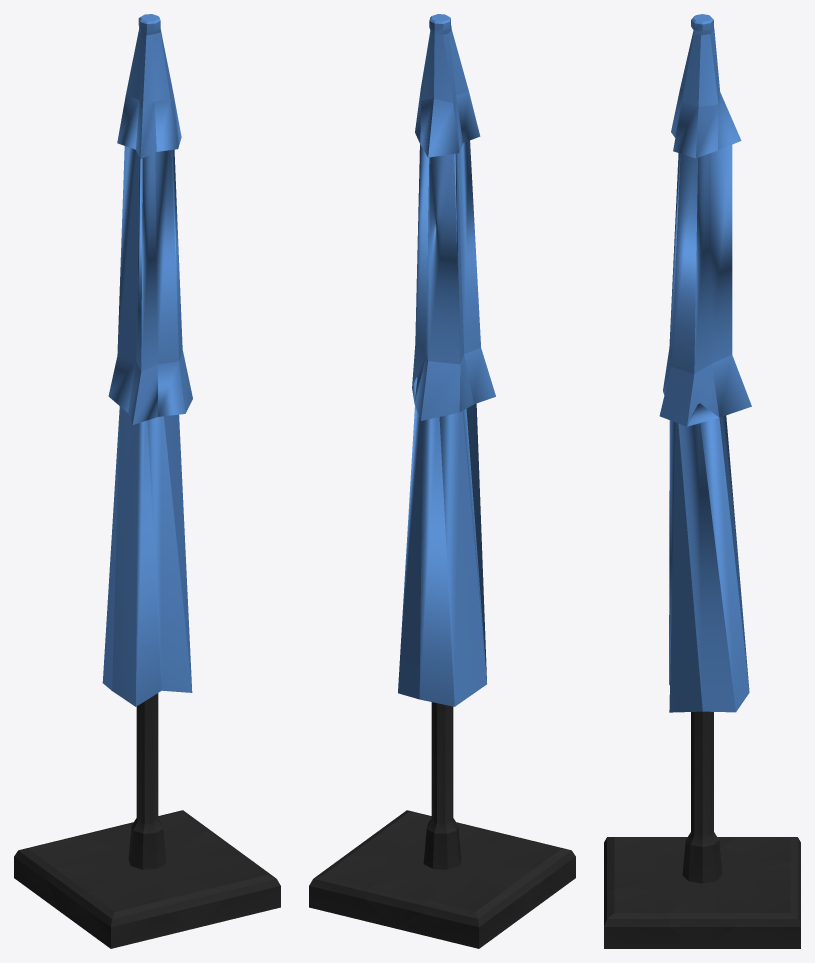
Rendered from bg_parasol_closed.fbx.
The picture shows the model from 3 angles, left to right: view 1: azimuth 30°, elevation 25°; view 2: azimuth 150°, elevation 25°; view 3: azimuth 270°, elevation 25°; orthographic projection.
Visible parts, largest first — view 1: ClosedParasole; view 2: ClosedParasole; view 3: ClosedParasole.
Part boxes in pixels (box(x1,y1,x2,y2)): ClosedParasole: box(14, 14, 280, 948); ClosedParasole: box(309, 14, 575, 948); ClosedParasole: box(604, 14, 800, 948).
Size of the model in its own units: 311 by 1528 by 307.
